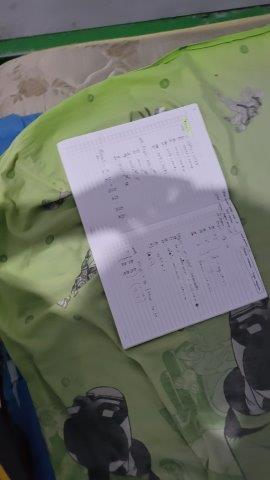kertas: (56, 103, 267, 351)
